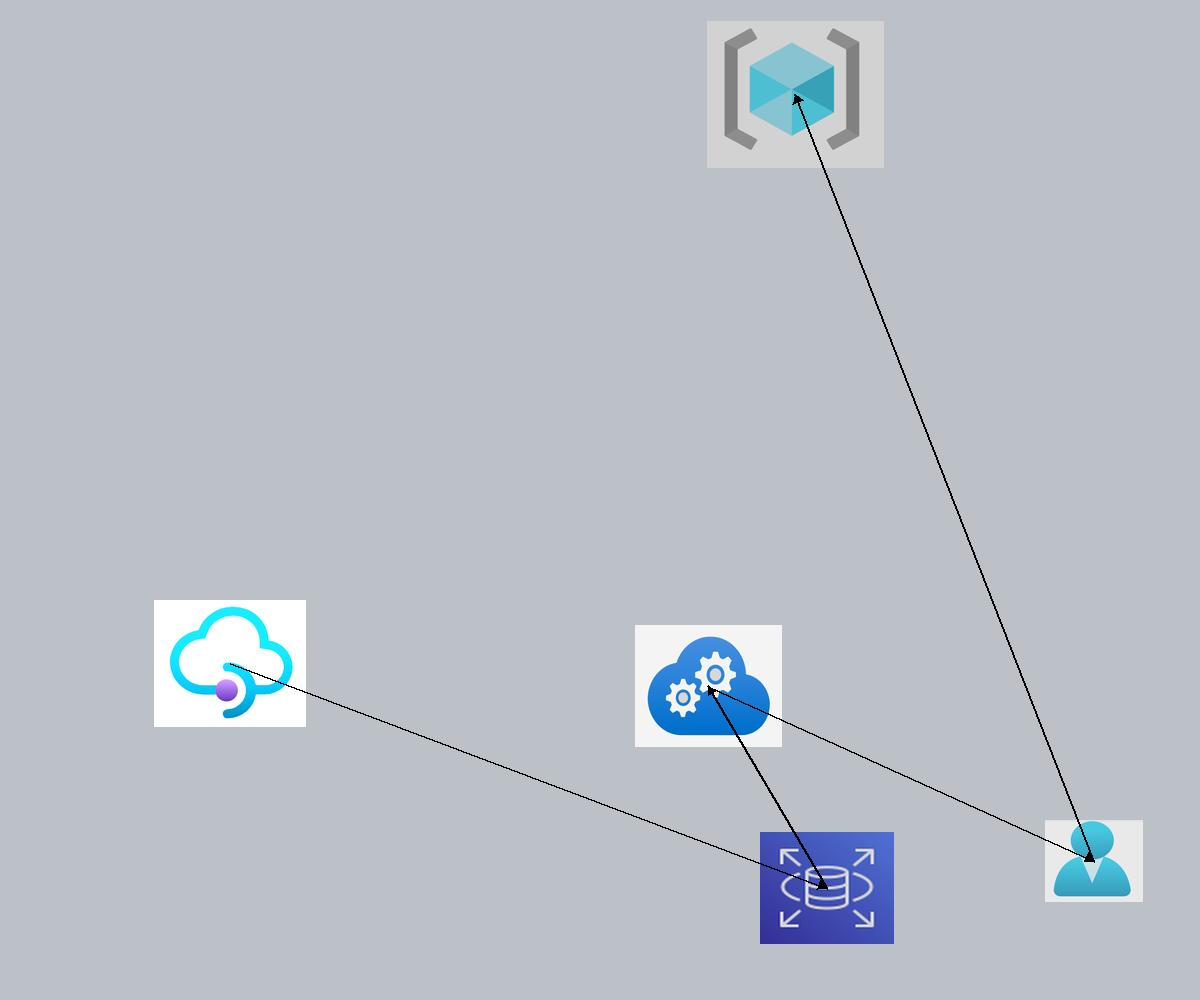AWS-RDS: (760, 832, 894, 944)
Azure_api_gateway: (154, 600, 306, 727)
Azure_cloud_services: (635, 625, 782, 747)
Azure_resource_group: (707, 21, 884, 168)
Azure_users: (1045, 820, 1143, 902)
